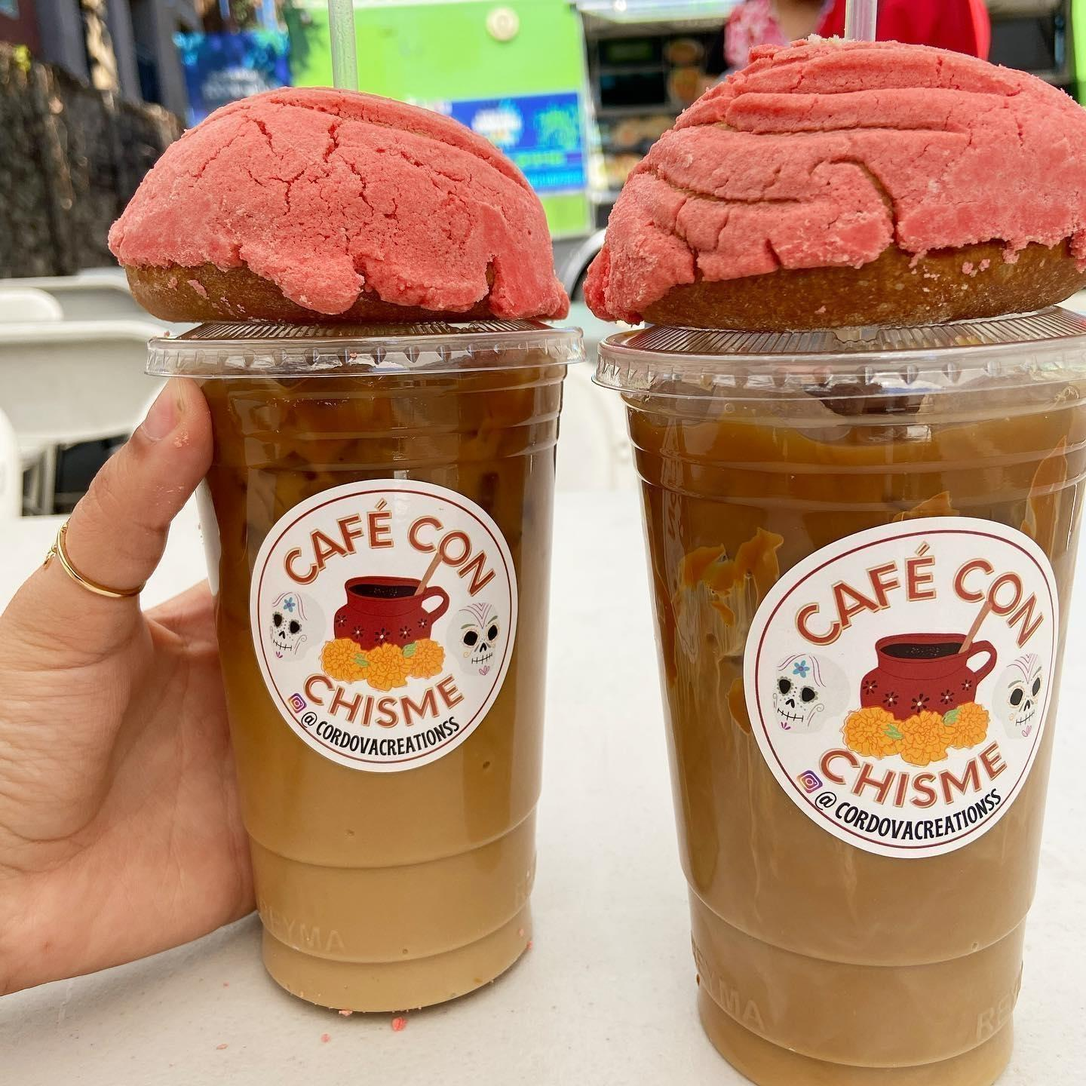cup-disposable: (597, 302, 1086, 1086), (147, 300, 573, 1035)
